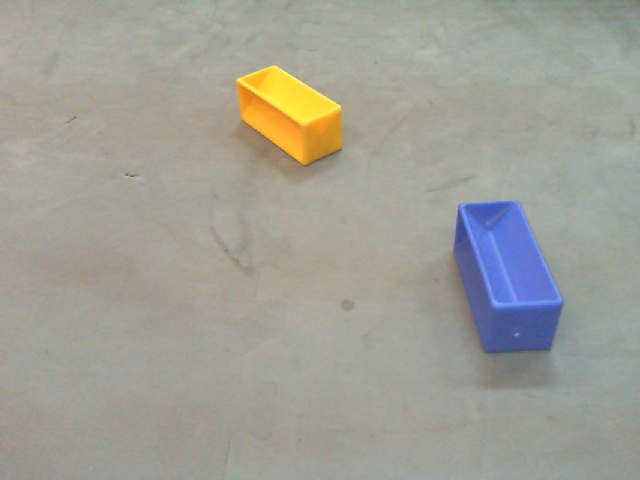BlueSample: (450, 196, 569, 355)
YellowSample: (233, 61, 349, 169)
